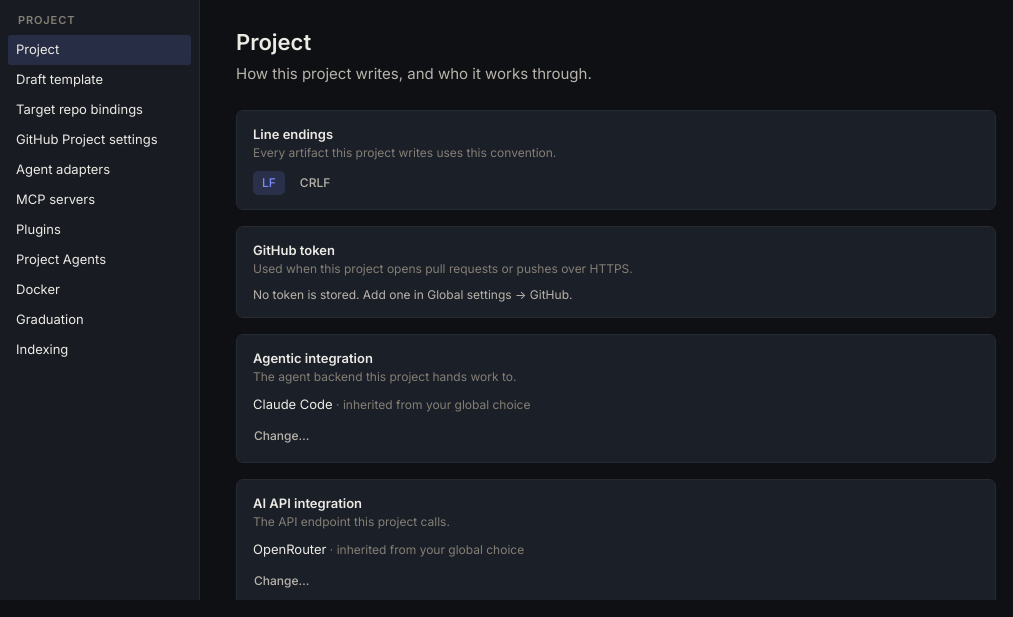
it: the Project section's AI integration controls (SET-FR-13 / SET-FR-14) › SET-FR-14 renders the two controls independently and overrides one alone
Click the tab "Project" at (100, 50), box 8,34 -> 191,64
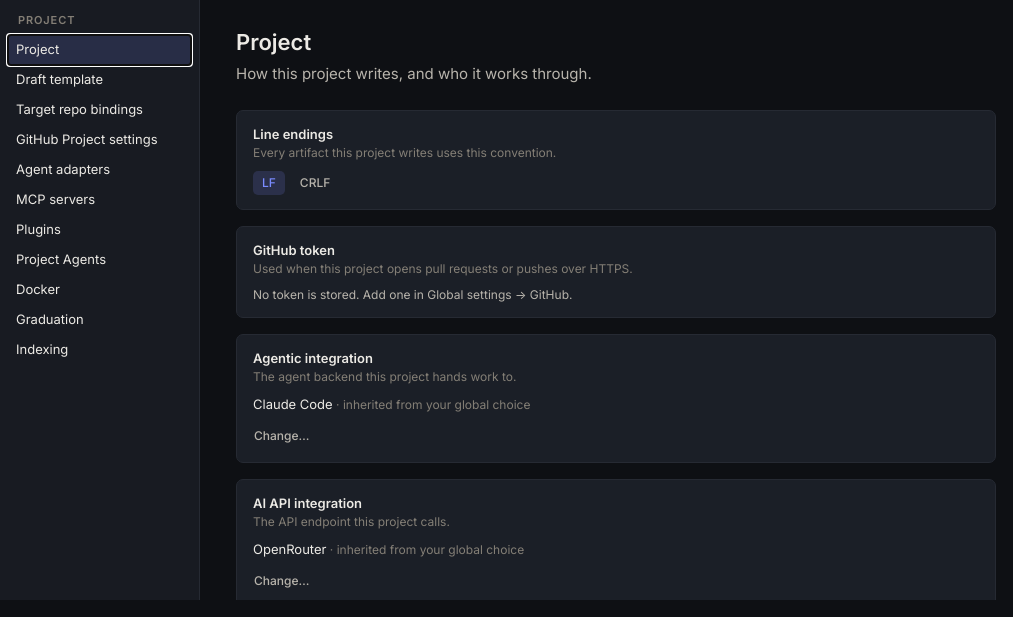
Click the button "Change…" below "OpenRouter" at (282, 581), box 245,569 -> 318,593
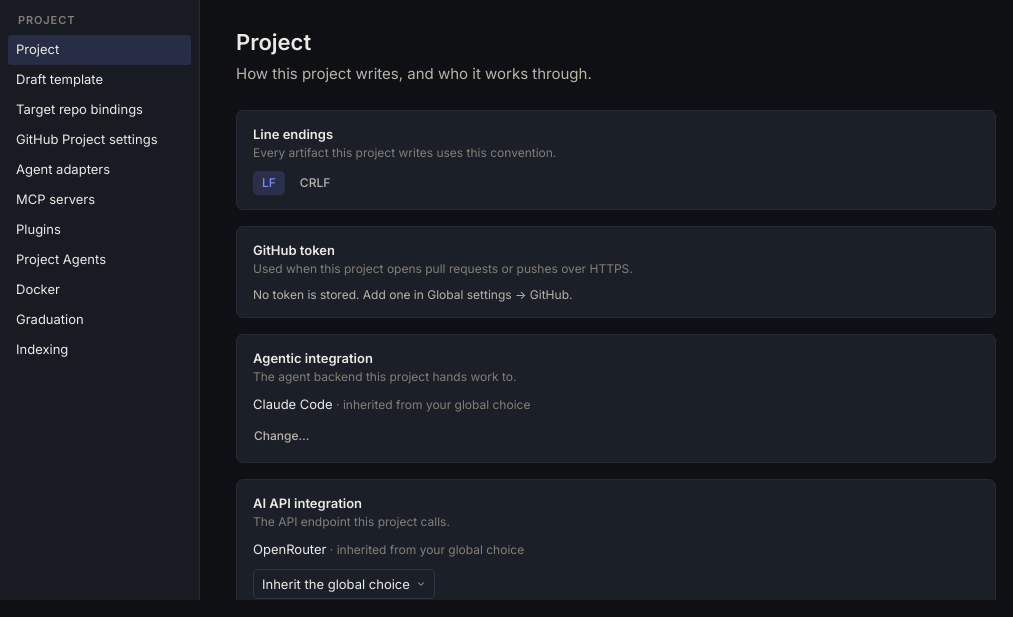
Select "Anthropic" in the dropdown named "AI API integration" at (344, 584), box 253,569 -> 435,599
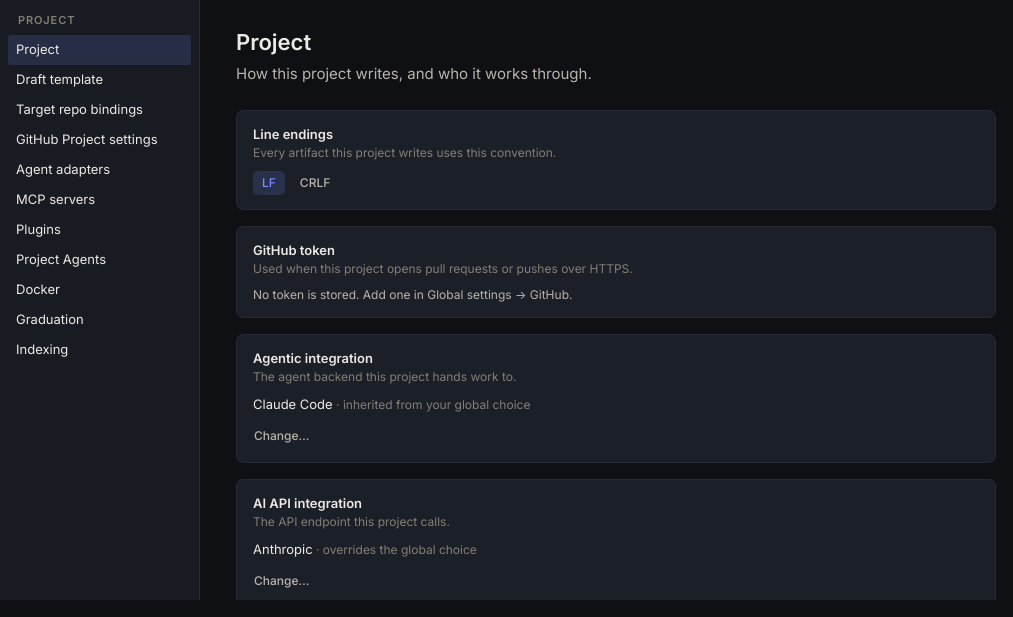
Expected: the element with test id "settings-agentic-integration-resolution" shows "Claude Code · inherited", 253,396 -> 530,412
Now the element with test id "settings-ai-api-integration-resolution" reads "Anthropic · overrides the global choice", box 253,541 -> 477,557
